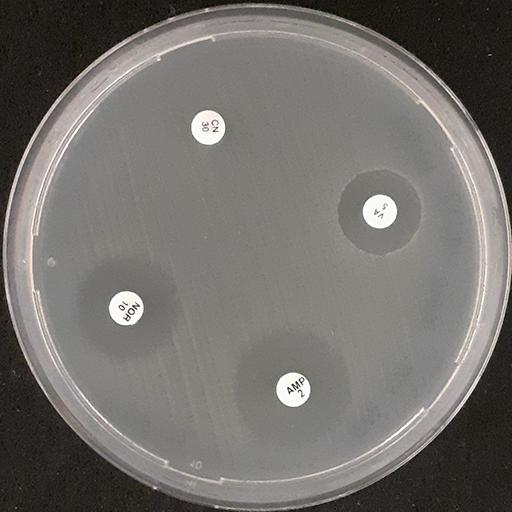disc: (276, 372, 311, 407), (109, 291, 144, 326), (362, 194, 397, 229), (191, 111, 226, 146)
